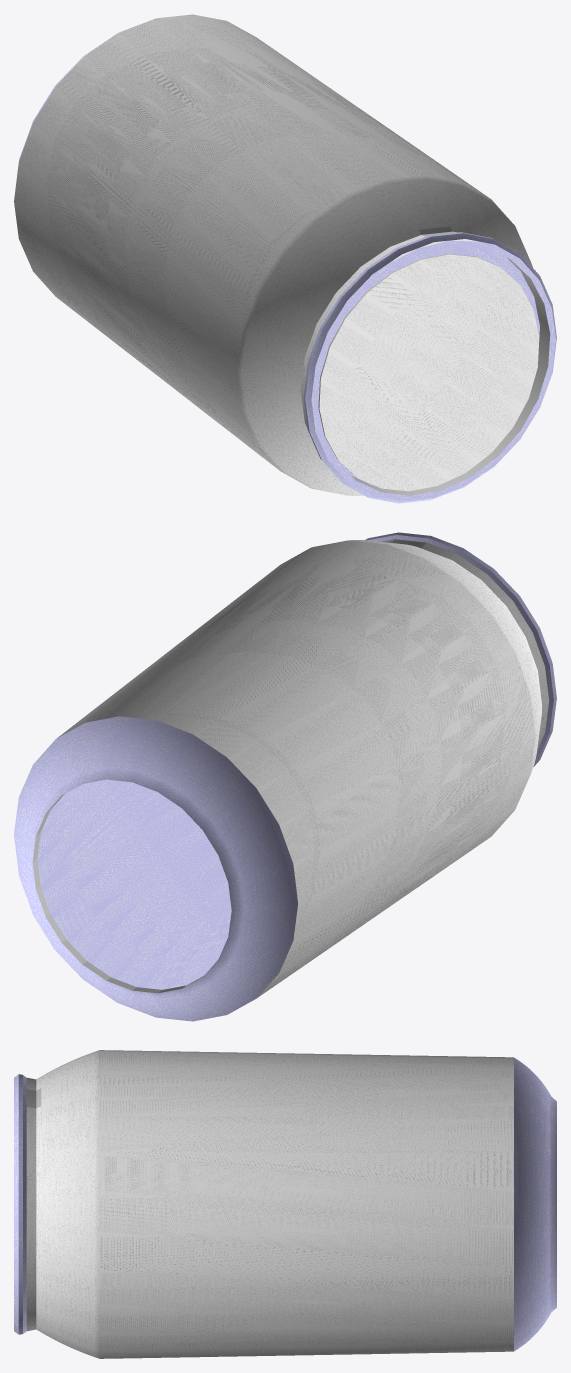
Rendered from model_scale.obj.
The picture shows the model from 3 angles, top to bottom: view 1: azimuth 30°, elevation 25°; view 2: azimuth 150°, elevation 25°; view 3: azimuth 270°, elevation 25°; orthographic projection. The views are drawn at different scales.
Visible parts, largest first — view 1: mesh1_mesh1-geometry, mesh2_mesh2-geometry; view 2: mesh1_mesh1-geometry; view 3: mesh1_mesh1-geometry.
Part boxes in pixels (bbox=[...]): mesh1_mesh1-geometry: bbox=[14, 14, 556, 503]; mesh2_mesh2-geometry: bbox=[318, 253, 539, 491]; mesh1_mesh1-geometry: bbox=[14, 532, 556, 1021]; mesh1_mesh1-geometry: bbox=[14, 1050, 556, 1358].
Bounding box in the file's own units: 0.0622 × 0.0622 × 0.109.
